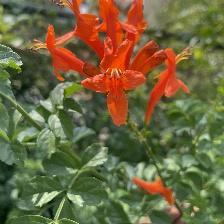honeysuckle: (84, 40, 148, 128), (141, 47, 192, 125), (42, 24, 92, 80), (64, 1, 105, 62), (95, 1, 132, 58), (130, 176, 179, 206)
